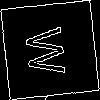W: (25, 25, 76, 77)
